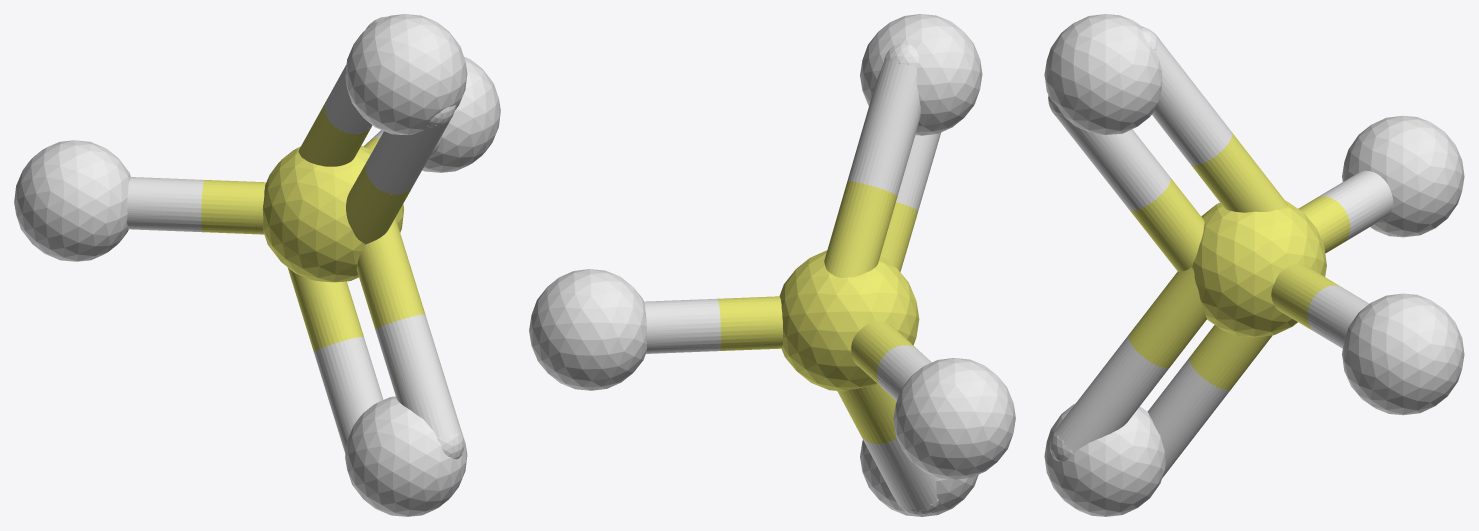
Rendered from Sulfate.dae.
3 views of the same model, side by side, from view 1: azimuth 30°, elevation 25°; view 2: azimuth 150°, elevation 25°; view 3: azimuth 270°, elevation 25° (orthographic).
Visible parts, largest first — view 1: Shape_IndexedFaceSet_004, Shape_IndexedFaceSet_002, Shape_IndexedFaceSet, Shape_IndexedFaceSet_001, Shape_IndexedFaceSet_022, Shape_IndexedFaceSet_003, Shape_IndexedFaceSet_020, Shape_IndexedFaceSet_026, Shape_IndexedFaceSet_007, Shape_IndexedFaceSet_024, Shape_IndexedFaceSet_018, Shape_IndexedFaceSet_005 (+3 smaller); view 2: Shape_IndexedFaceSet, Shape_IndexedFaceSet_004, Shape_IndexedFaceSet_003, Shape_IndexedFaceSet_002, Shape_IndexedFaceSet_014, Shape_IndexedFaceSet_012, Shape_IndexedFaceSet_010, Shape_IndexedFaceSet_009, Shape_IndexedFaceSet_026, Shape_IndexedFaceSet_024, Shape_IndexedFaceSet_001, Shape_IndexedFaceSet_005 (+4 smaller); view 3: Shape_IndexedFaceSet, Shape_IndexedFaceSet_003, Shape_IndexedFaceSet_002, Shape_IndexedFaceSet_004, Shape_IndexedFaceSet_001, Shape_IndexedFaceSet_022, Shape_IndexedFaceSet_014, Shape_IndexedFaceSet_018, Shape_IndexedFaceSet_020, Shape_IndexedFaceSet_026, Shape_IndexedFaceSet_012, Shape_IndexedFaceSet_016 (+5 smaller).
Part boxes in pixels (box(x1,y1,x2,y2)): Shape_IndexedFaceSet_004: box(14, 140, 130, 261); Shape_IndexedFaceSet_002: box(345, 14, 467, 135); Shape_IndexedFaceSet: box(262, 146, 404, 282); Shape_IndexedFaceSet_001: box(345, 396, 467, 516); Shape_IndexedFaceSet_022: box(375, 314, 462, 439); Shape_IndexedFaceSet_003: box(422, 57, 500, 172); Shape_IndexedFaceSet_020: box(356, 218, 425, 329); Shape_IndexedFaceSet_026: box(314, 336, 383, 454); Shape_IndexedFaceSet_007: box(127, 177, 203, 231); Shape_IndexedFaceSet_024: box(287, 267, 363, 351); Shape_IndexedFaceSet_018: box(366, 119, 450, 194); Shape_IndexedFaceSet_005: box(201, 180, 266, 234); Shape_IndexedFaceSet: box(779, 250, 919, 391); Shape_IndexedFaceSet_004: box(893, 358, 1015, 479); Shape_IndexedFaceSet_003: box(529, 269, 646, 390); Shape_IndexedFaceSet_002: box(860, 14, 982, 135); Shape_IndexedFaceSet_014: box(847, 59, 920, 195); Shape_IndexedFaceSet_012: box(824, 181, 897, 277); Shape_IndexedFaceSet_010: box(644, 298, 720, 353); Shape_IndexedFaceSet_009: box(718, 296, 783, 350); Shape_IndexedFaceSet_026: box(861, 436, 937, 510); Shape_IndexedFaceSet_024: box(837, 384, 896, 444); Shape_IndexedFaceSet_001: box(860, 440, 978, 516); Shape_IndexedFaceSet_005: box(851, 321, 917, 387); Shape_IndexedFaceSet: box(1192, 200, 1326, 337); Shape_IndexedFaceSet_003: box(1342, 293, 1464, 415); Shape_IndexedFaceSet_002: box(1044, 14, 1162, 134); Shape_IndexedFaceSet_004: box(1342, 115, 1464, 237); Shape_IndexedFaceSet_001: box(1044, 403, 1165, 516); Shape_IndexedFaceSet_022: box(1055, 335, 1169, 453); Shape_IndexedFaceSet_014: box(1152, 39, 1232, 165); Shape_IndexedFaceSet_018: box(1056, 116, 1170, 210); Shape_IndexedFaceSet_020: box(1128, 267, 1206, 367); Shape_IndexedFaceSet_026: box(1147, 357, 1230, 478); Shape_IndexedFaceSet_012: box(1191, 132, 1288, 212); Shape_IndexedFaceSet_016: box(1129, 177, 1204, 271).
Bounding box in the file's own units: 31.03 × 23.99 × 31.03.
